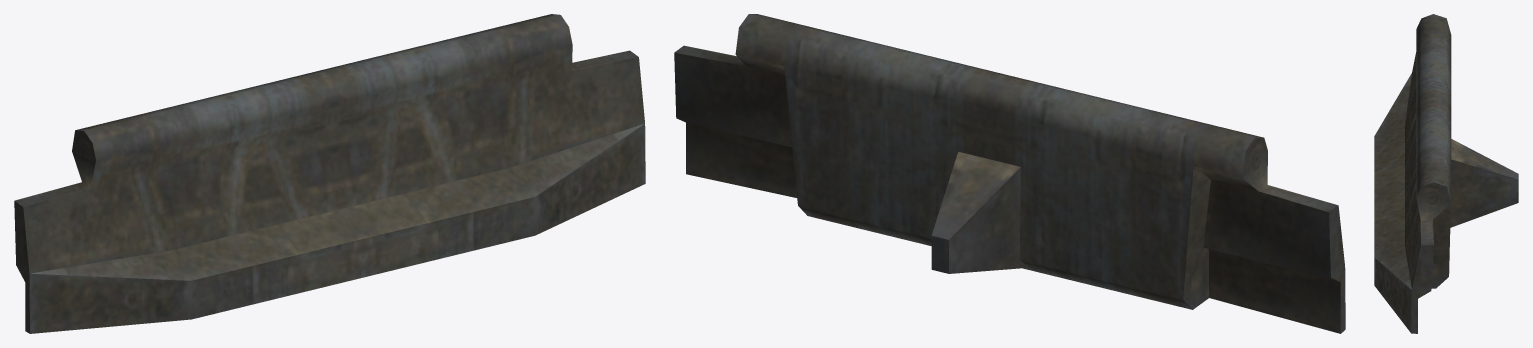
3 renders of one model, left to right at view 1: azimuth 30°, elevation 25°; view 2: azimuth 150°, elevation 25°; view 3: azimuth 270°, elevation 25°, orthographic. The views are drawn at different scales.
Visible parts, largest first — view 1: set_0_group_0; view 2: set_0_group_0; view 3: set_0_group_0.
Part boxes in pixels (x1,y1,x2,y2): set_0_group_0: [14, 14, 645, 333]; set_0_group_0: [674, 14, 1345, 333]; set_0_group_0: [1374, 14, 1518, 333].
Size of the model in its own units: 0.64 by 0.1742 by 0.1797.
1 material, 1 textured.
